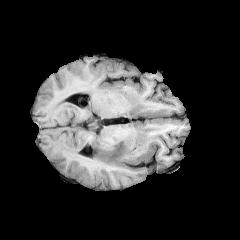glioma: (90, 140, 134, 167)
